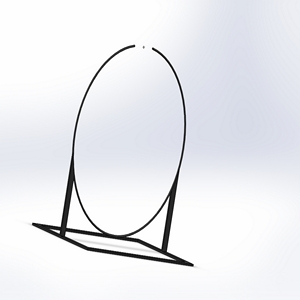circle: (29, 42, 196, 266)
